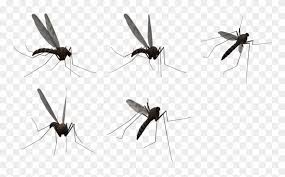insect: (12, 12, 93, 83), (107, 13, 185, 81), (23, 88, 95, 156), (108, 97, 189, 156), (207, 16, 274, 85)
